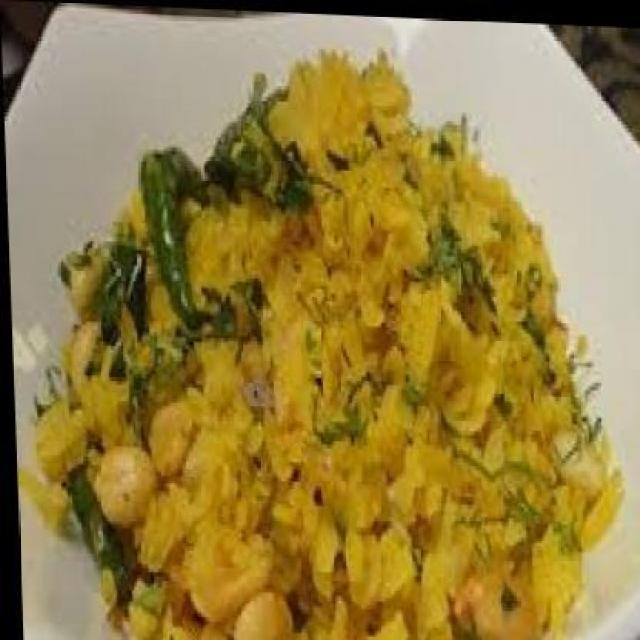poha: (2, 32, 624, 640)
